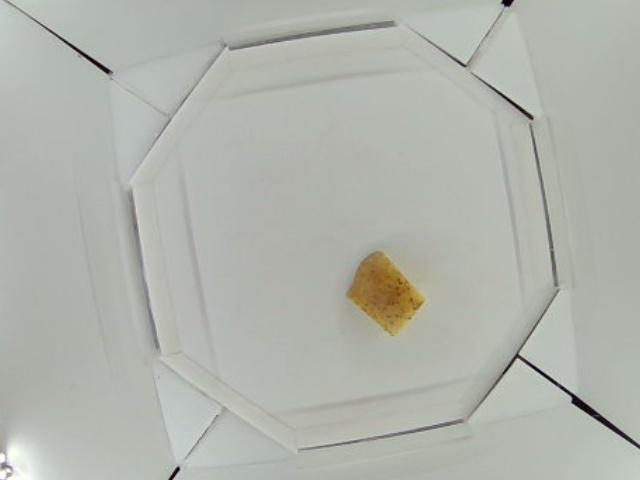Potato: (347, 250, 429, 334)
